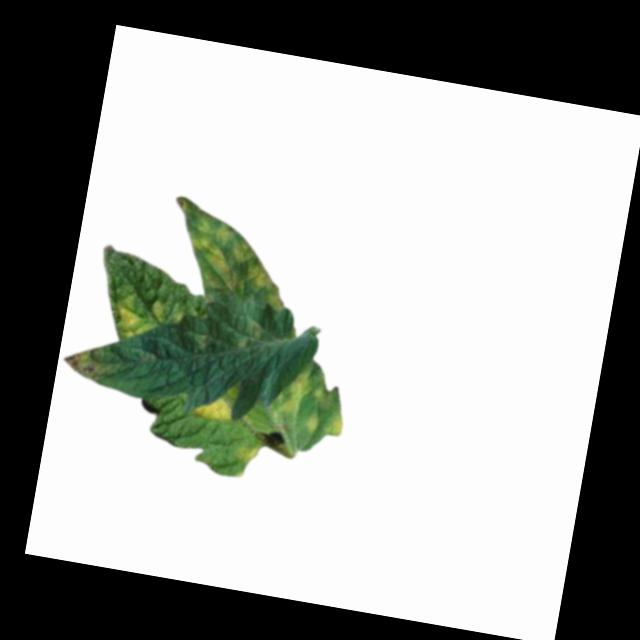Leaf_Mold: (162, 189, 303, 312), (272, 366, 328, 433), (59, 343, 113, 384), (191, 391, 240, 425), (116, 293, 149, 339), (235, 438, 261, 465), (327, 405, 346, 438)
